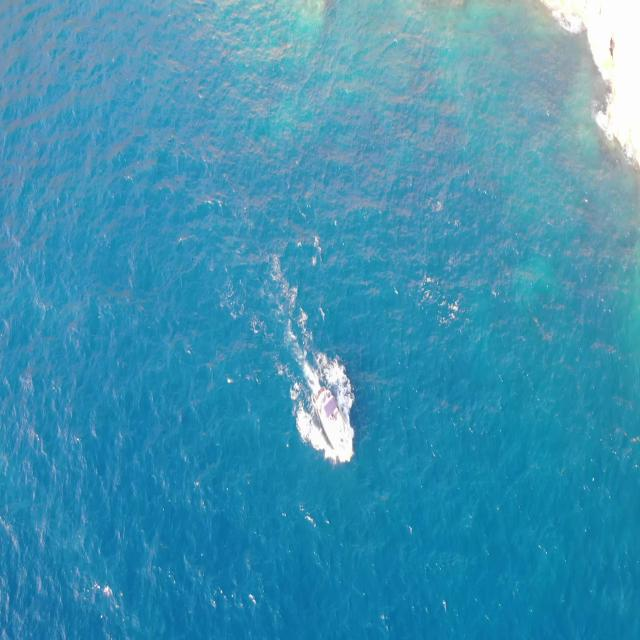boat: (310, 378, 352, 461)
